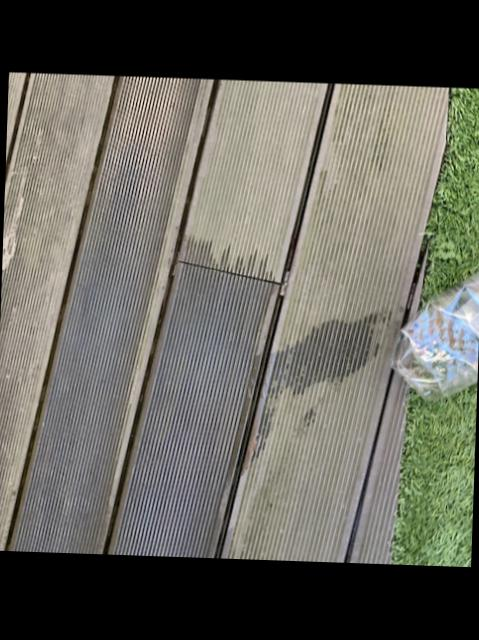plastic: (390, 270, 479, 401)
